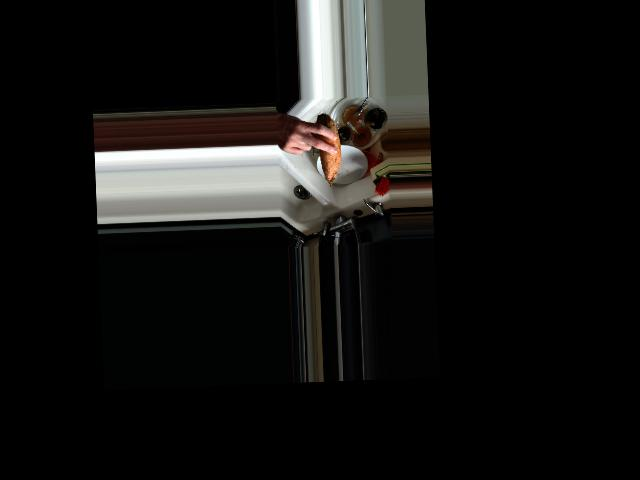sweet_potato: (311, 110, 341, 190)
